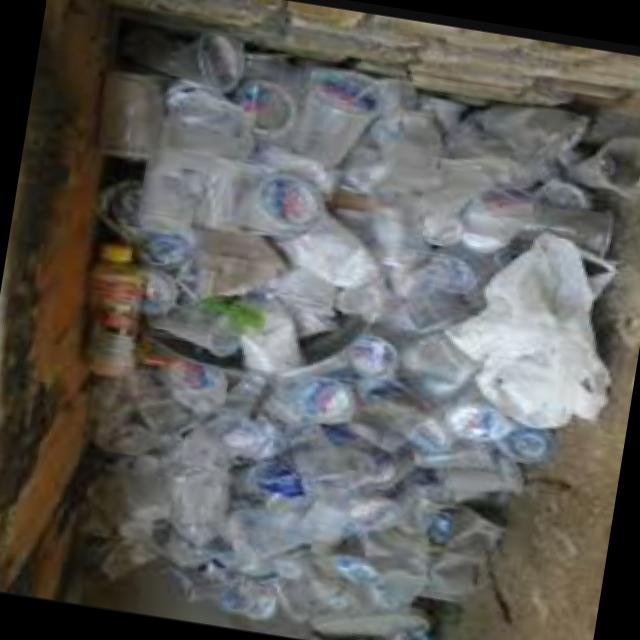GelasPlastik: (29, 18, 640, 640)
